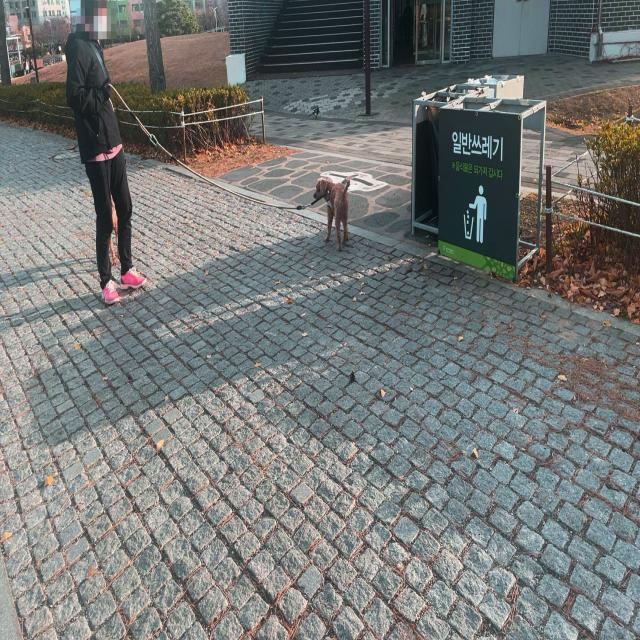Leashed_Dog: (96, 81, 351, 252)
